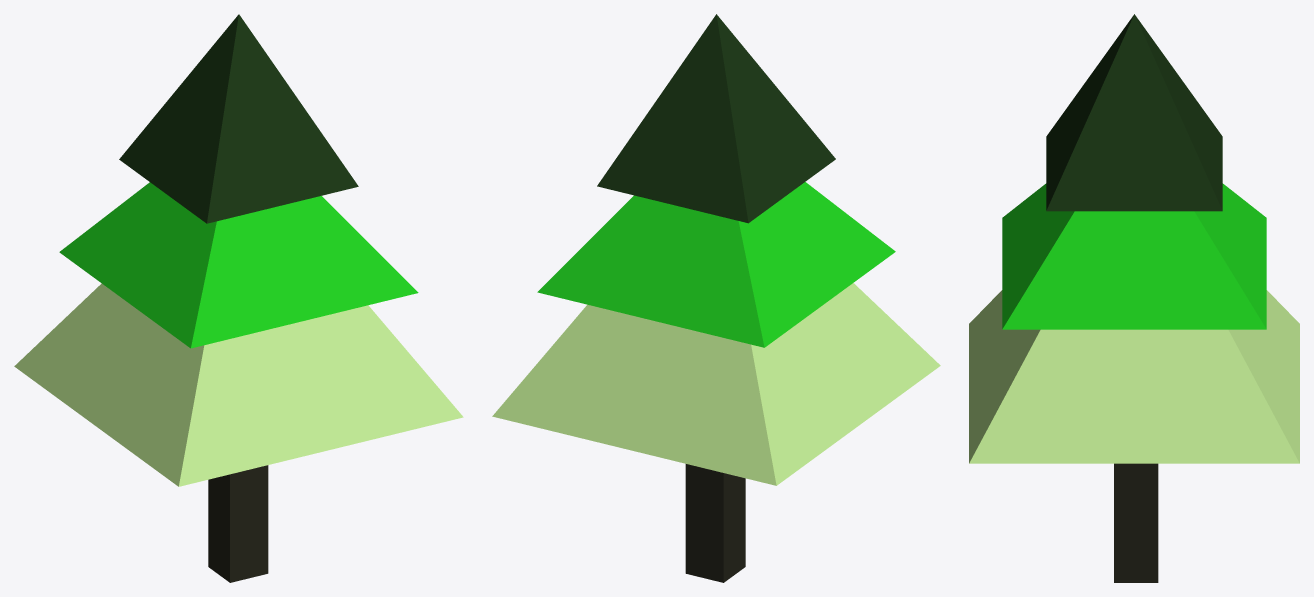
The model's file is tree2.obj.
The picture shows the model from 3 angles, left to right: view 1: azimuth 30°, elevation 25°; view 2: azimuth 150°, elevation 25°; view 3: azimuth 270°, elevation 25°; orthographic projection.
Visible parts, largest first — view 1: Pyramid001, Pyramid002, Pyramid003, Box001; view 2: Pyramid001, Pyramid002, Pyramid003, Box001; view 3: Pyramid001, Pyramid002, Pyramid003, Box001.
Boxes of the visible parts, x1,y1,x2,y2 form: Pyramid001: [14, 283, 463, 486]; Pyramid002: [59, 182, 418, 348]; Pyramid003: [119, 14, 358, 223]; Box001: [208, 465, 268, 582]; Pyramid001: [492, 283, 940, 485]; Pyramid002: [537, 182, 895, 347]; Pyramid003: [597, 14, 835, 223]; Box001: [685, 464, 745, 582]; Pyramid001: [969, 290, 1299, 463]; Pyramid002: [1002, 183, 1266, 329]; Pyramid003: [1046, 14, 1222, 211]; Box001: [1114, 463, 1158, 582].
Size of the model in its own units: 23.62 by 44.09 by 23.62.
